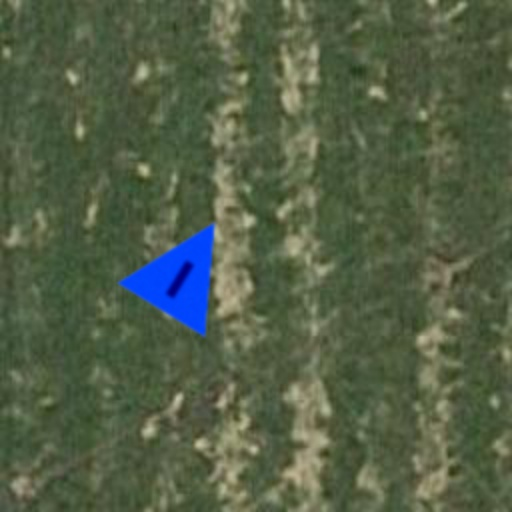triangle: (116, 194, 260, 338)
